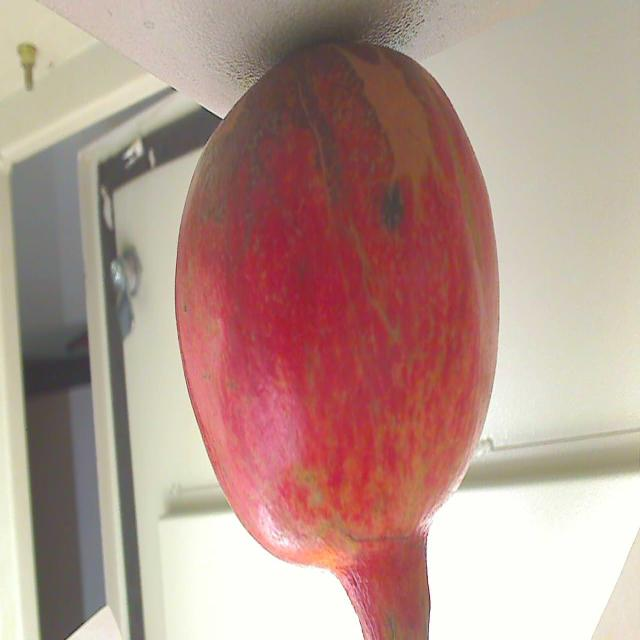pomegranate: (169, 35, 519, 640)
